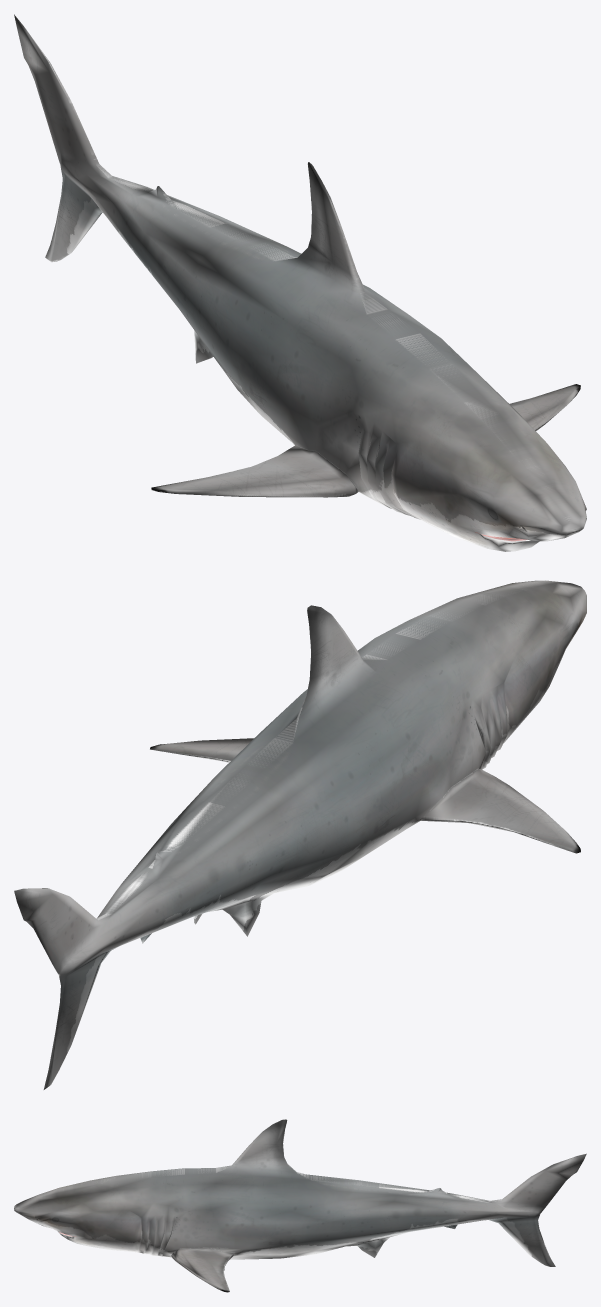
The model's file is fish_shark_meduim.fbx.
3 views of the same model, one above another, from view 1: azimuth 30°, elevation 25°; view 2: azimuth 150°, elevation 25°; view 3: azimuth 270°, elevation 25° (orthographic). The views are drawn at different scales.
Visible parts, largest first — view 1: fish_shark_medium; view 2: fish_shark_medium; view 3: fish_shark_medium.
Part boxes in pixels (x1,y1,x2,y2): fish_shark_medium: (14, 14, 586, 551); fish_shark_medium: (14, 580, 586, 1089); fish_shark_medium: (14, 1119, 586, 1292).
Bounding box in the file's own units: 1.01 × 0.6492 × 2.28.
